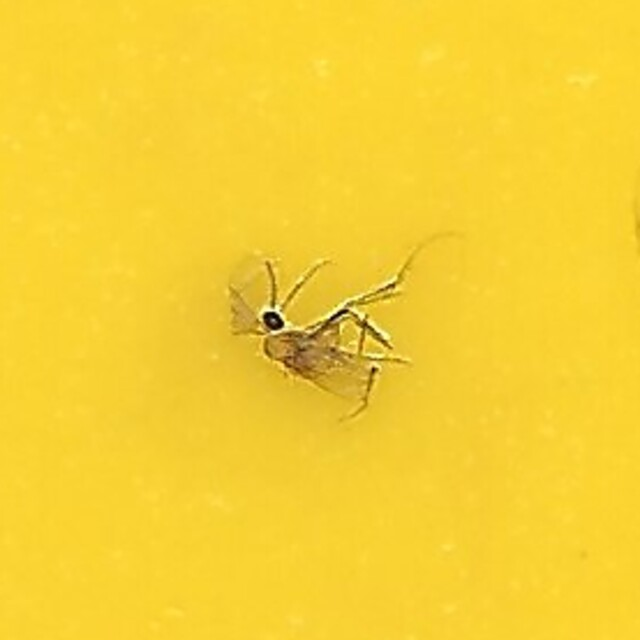Nematocera: (231, 233, 409, 407)
